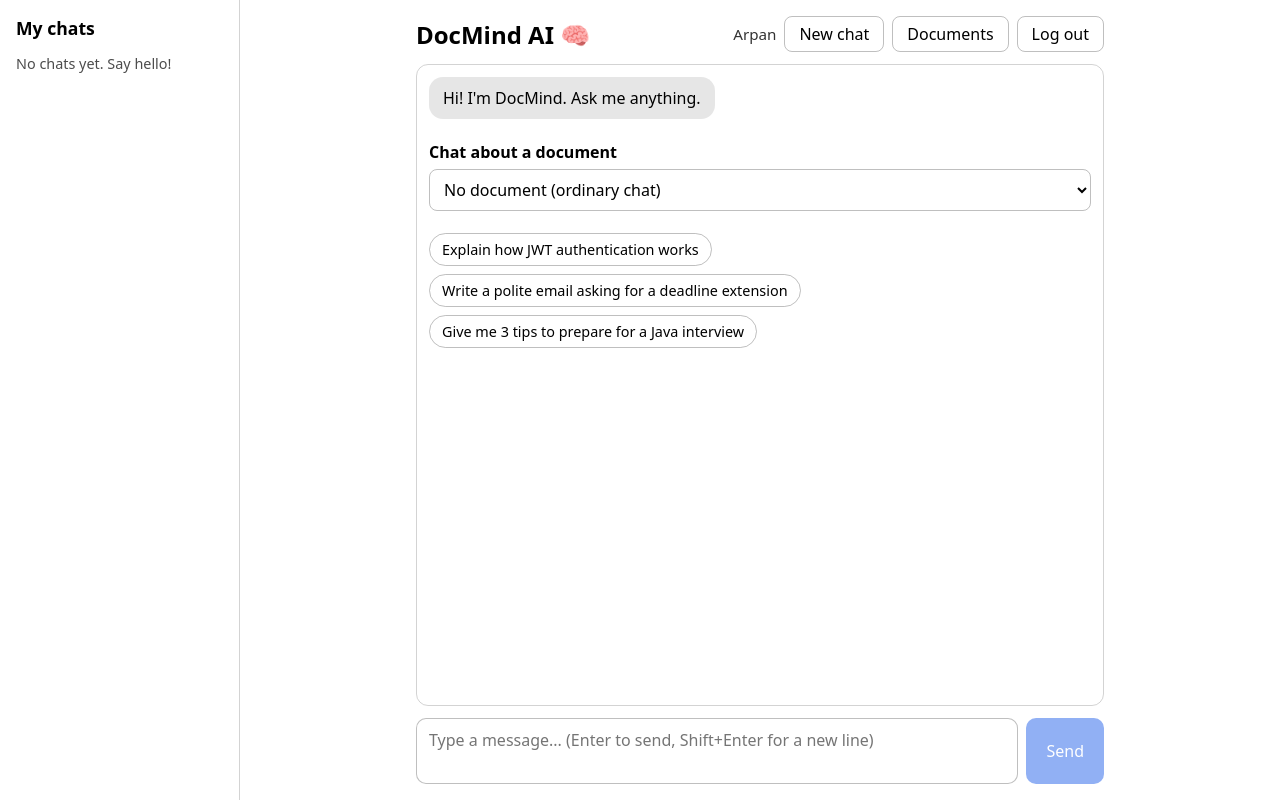
Test: ChatPage and documents › sends the chosen document with the first message only, and shows which document the chat is about
Later steps or results of the test are not shown.
Select "report.pdf (2 pages)" in the dropdown labelled "Chat about a document" at (760, 190), box [429, 169, 1091, 211]
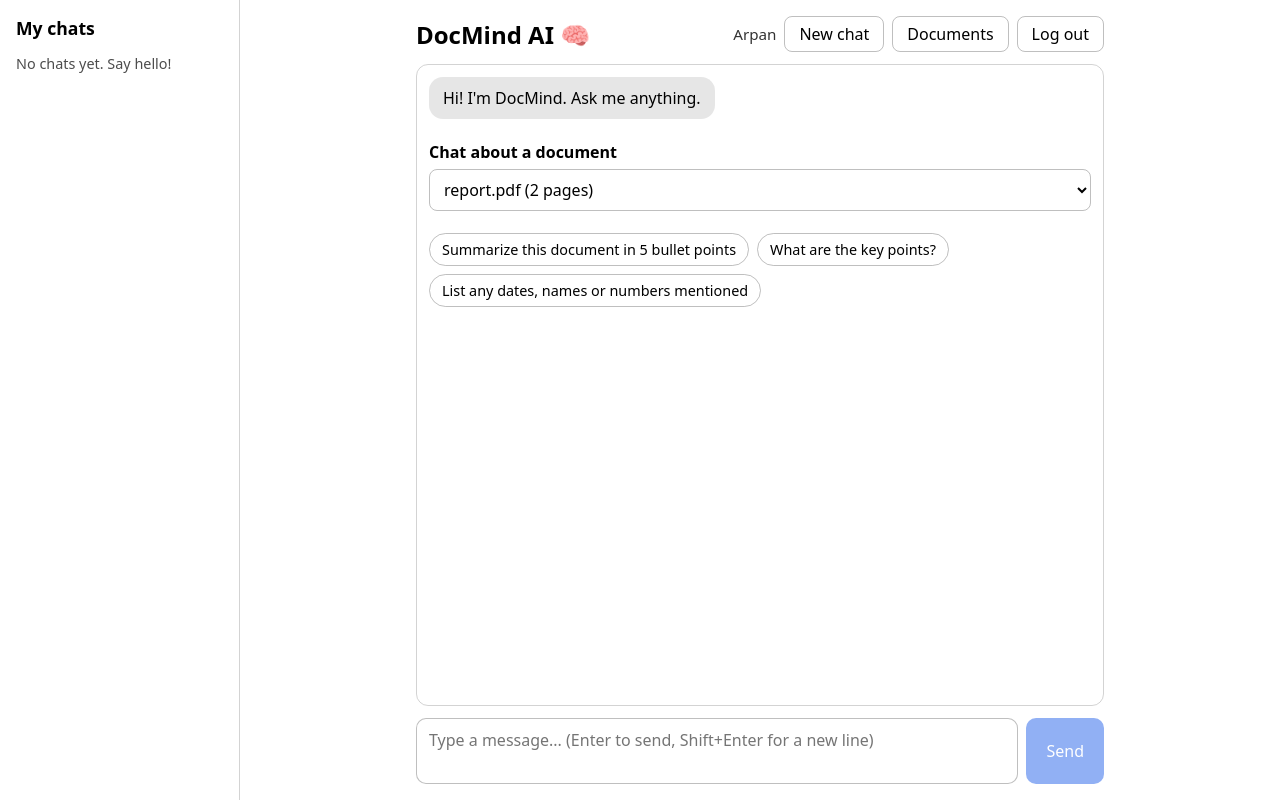
Replace the text in the text box named "Your message" with "Summarize it" at (717, 751), box [416, 718, 1018, 784]
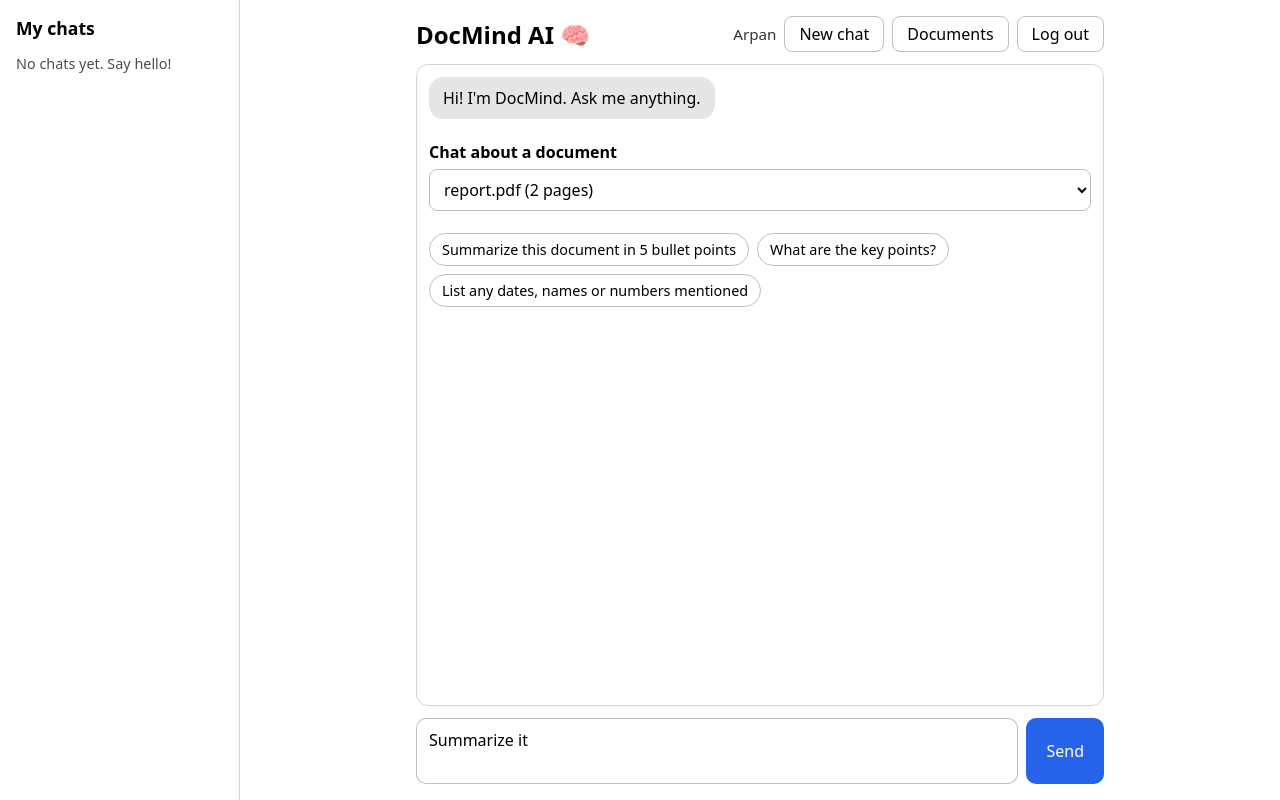
Click the button "Send" at (1065, 751), box [1026, 718, 1104, 784]
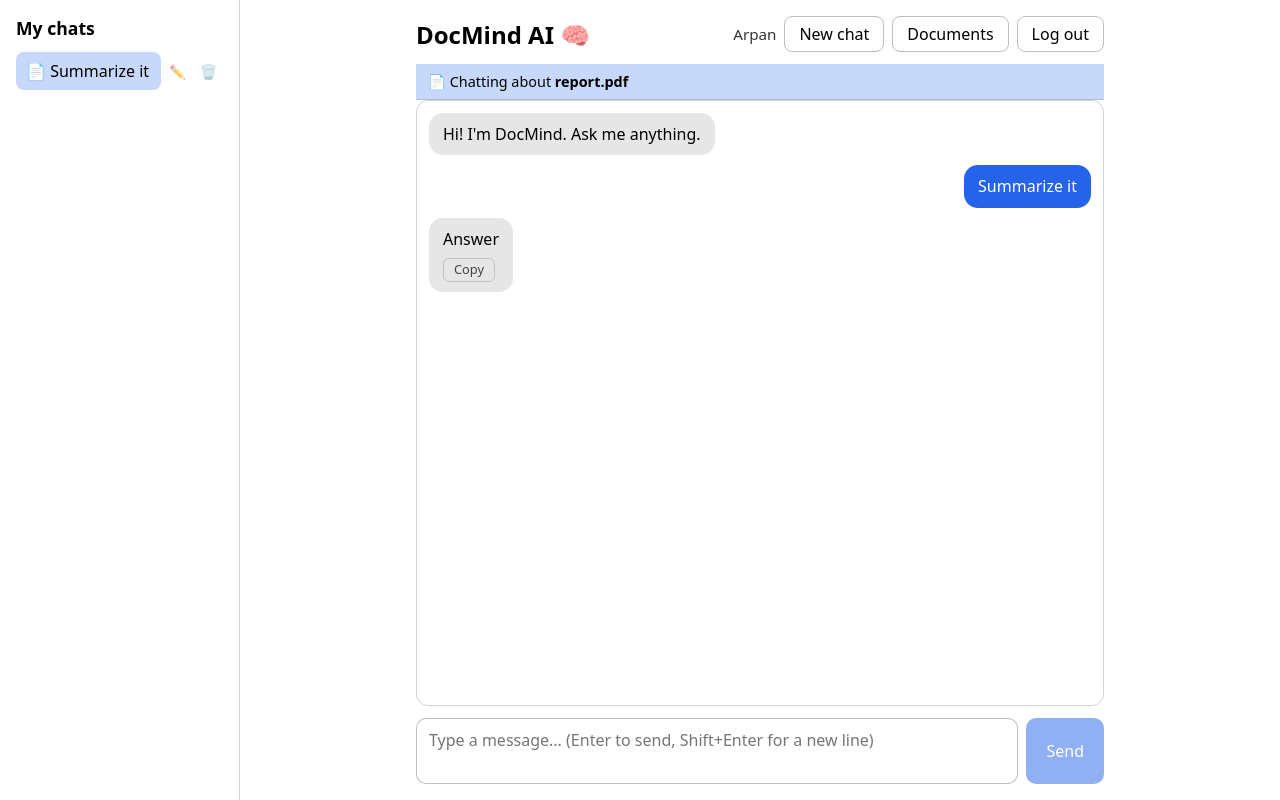
Expected: the text "report.pdf" is shown, [555, 72, 628, 91]
Expected: the label labelled "Chat about a document" is gone
